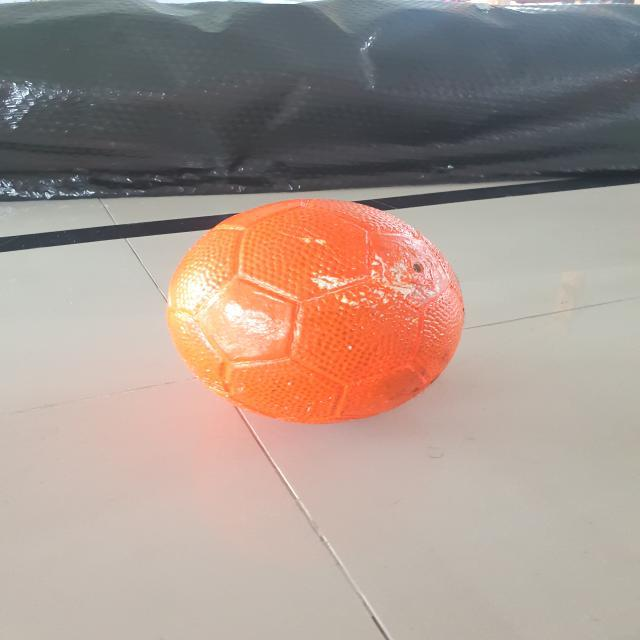bola: (161, 194, 472, 436)
